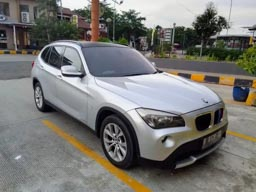plat: (203, 130, 224, 149)
